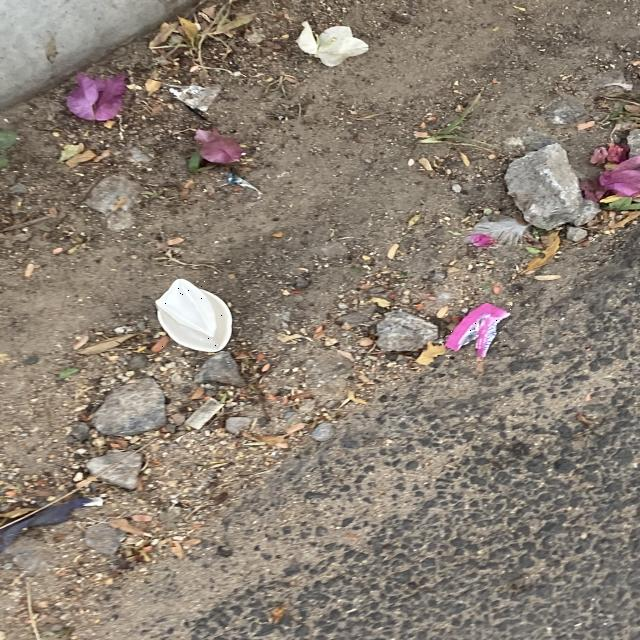paper: (155, 279, 231, 352)
wrapper: (445, 304, 511, 358)
